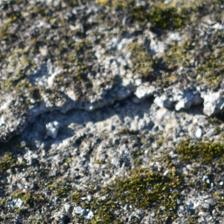Crack: (5, 38, 213, 111)
